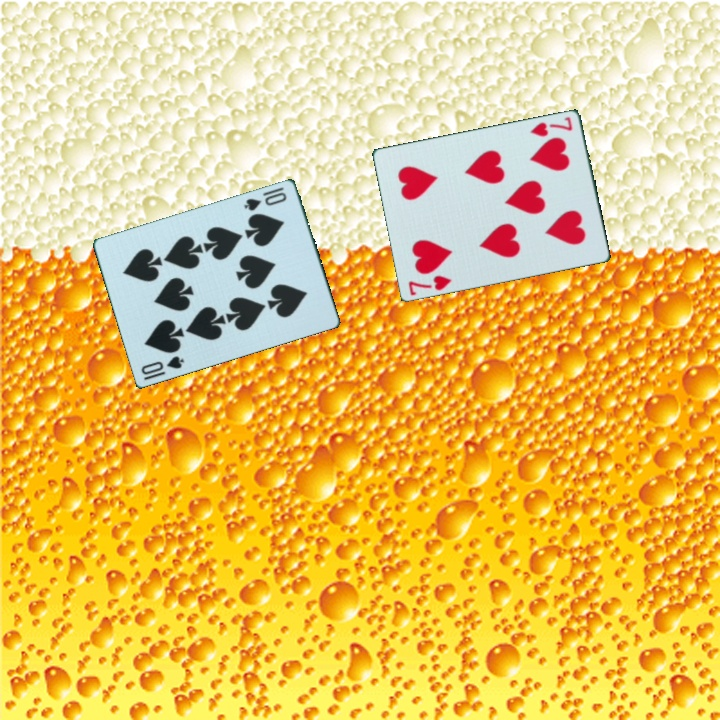10s: (138, 352, 188, 383), (241, 188, 290, 213)
7h: (405, 271, 455, 298), (527, 113, 575, 139)
